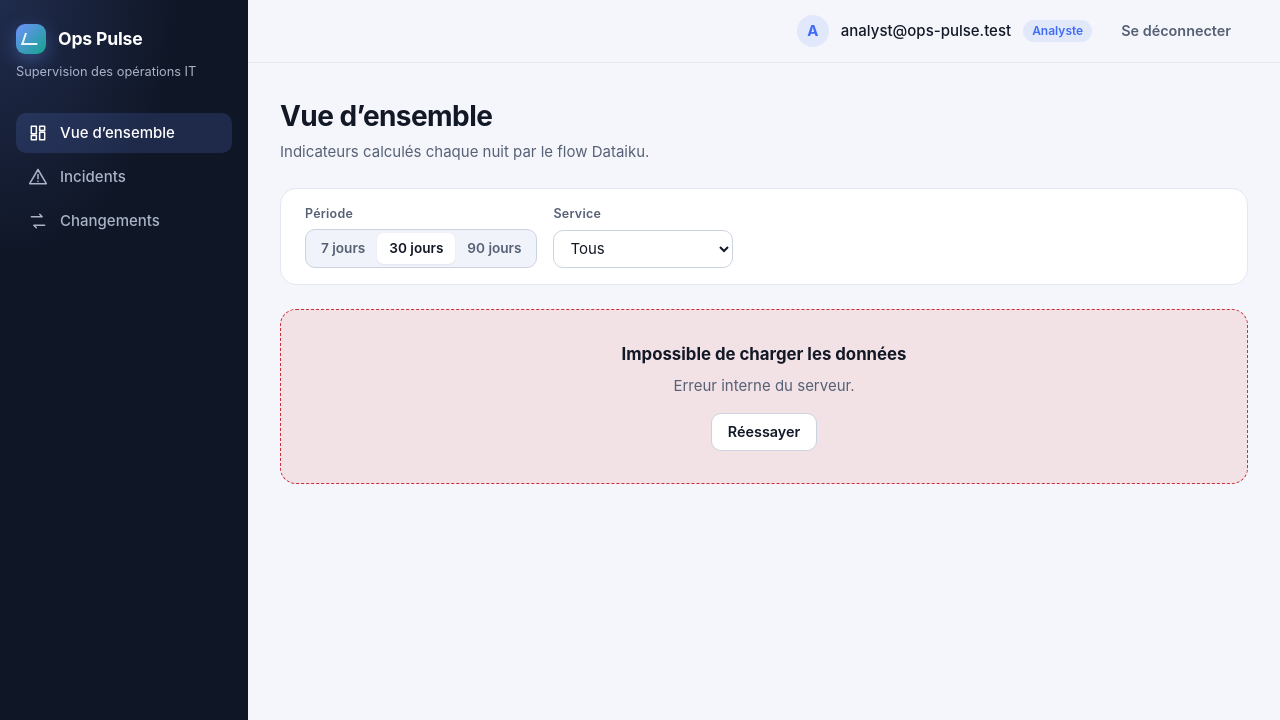
Scenario: OverviewPage › shows the error state and recovers on retry
Expected: the message shows "Erreur interne du serveur.", [674,376,855,395]
Click the button "Réessayer": (764, 432) [711,413,817,451]
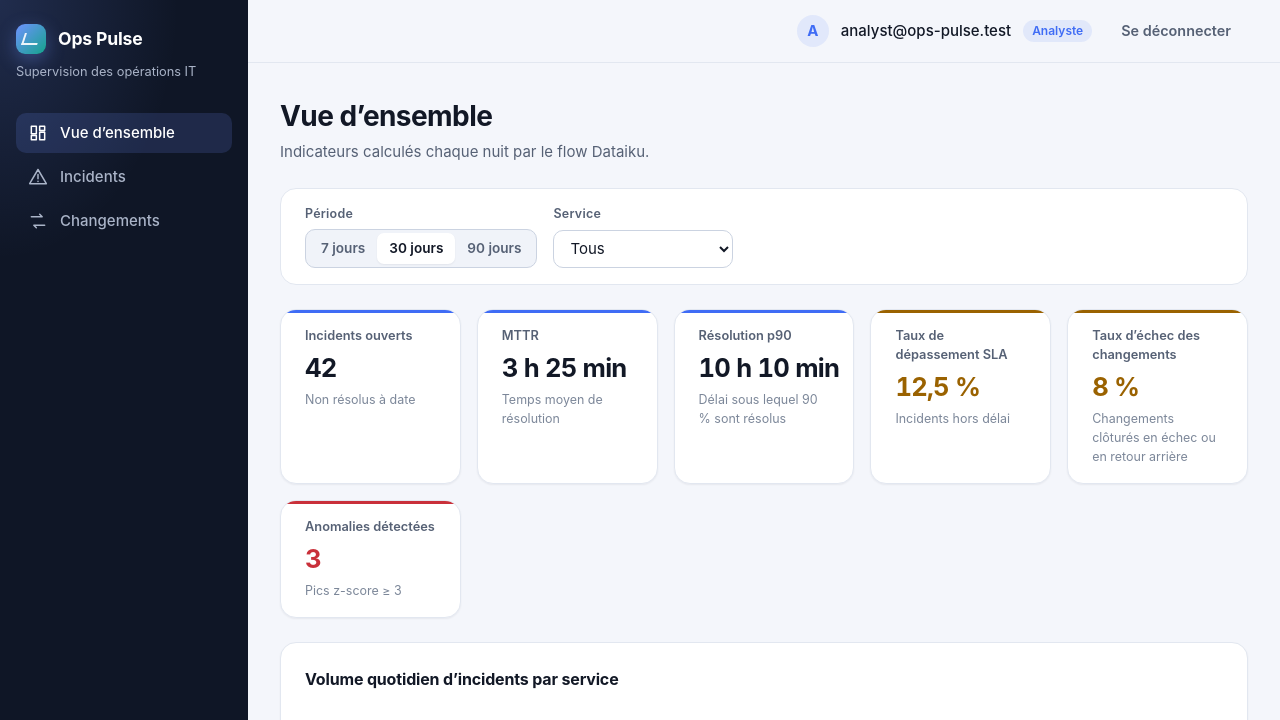
Expected: the list named "Vue d’ensemble" is shown, [280,309,1248,618]
